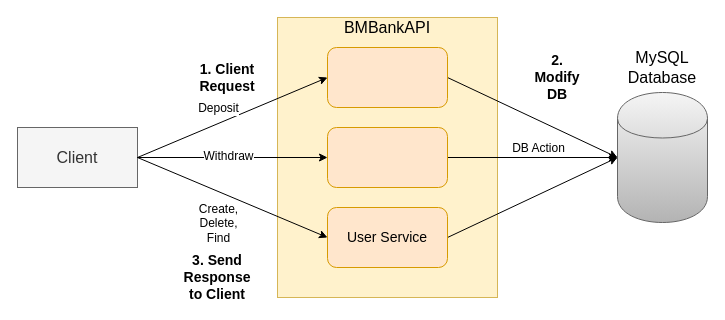
Image size: 725x320. Some labels were removed from this diagram. Here are the shapes that lost their labels. From the top down, the centre of each, then its label:
(387,77): Deposit Service
(387,157): Withdraw Service
